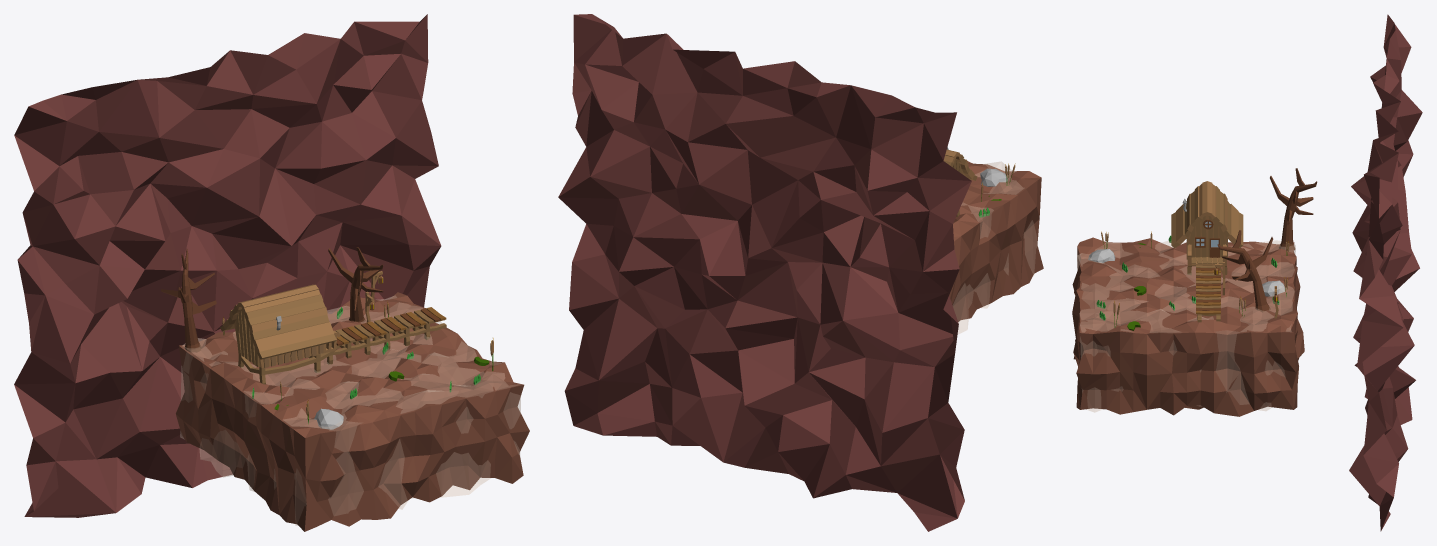
File: Tile1.fbx
The picture shows the model from 3 angles, left to right: view 1: azimuth 30°, elevation 25°; view 2: azimuth 150°, elevation 25°; view 3: azimuth 270°, elevation 25°; orthographic projection. The views are drawn at different scales.
Visible parts, largest first — view 1: Plane.002, Plane.001, Plane, Cube, Cylinder.001, Cylinder.002; view 2: Plane.002, Plane.001, Plane; view 3: Plane.001, Plane.002, Plane, Cube, Cylinder.002, Cylinder.001.
Part boxes in pixels (x1=…): Plane.002: x1=14, y1=14, x2=441, y2=517; Plane.001: x1=176, y1=292, x2=529, y2=531; Plane: x1=180, y1=296, x2=520, y2=525; Cube: x1=220, y1=284, x2=340, y2=384; Cylinder.001: x1=161, y1=249, x2=216, y2=352; Cylinder.002: x1=328, y1=247, x2=383, y2=322; Plane.002: x1=558, y1=14, x2=971, y2=531; Plane.001: x1=949, y1=161, x2=1043, y2=321; Plane: x1=953, y1=161, x2=1037, y2=333; Plane.001: x1=1072, y1=237, x2=1304, y2=416; Plane.002: x1=1349, y1=14, x2=1422, y2=531; Plane: x1=1077, y1=240, x2=1295, y2=412; Cube: x1=1171, y1=181, x2=1243, y2=275; Cylinder.002: x1=1217, y1=230, x2=1273, y2=312; Cylinder.001: x1=1270, y1=168, x2=1317, y2=250.
Bounding box in the file's own units: 5169 × 5216 × 4586.
